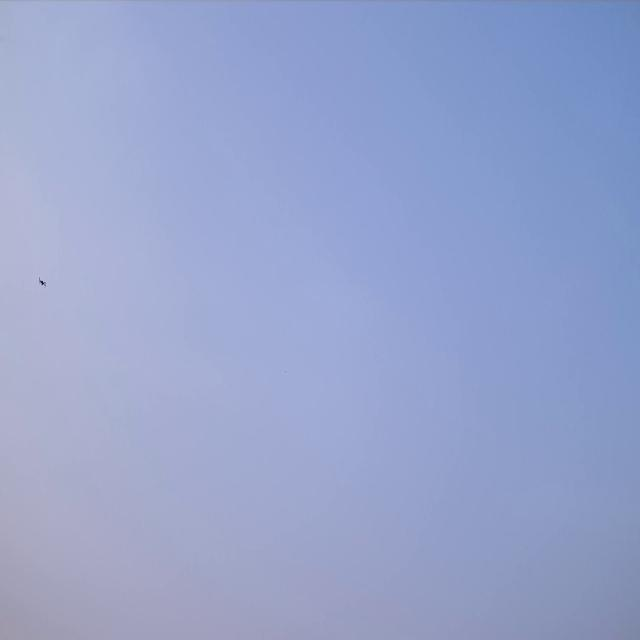UAV: (38, 277, 47, 288)
